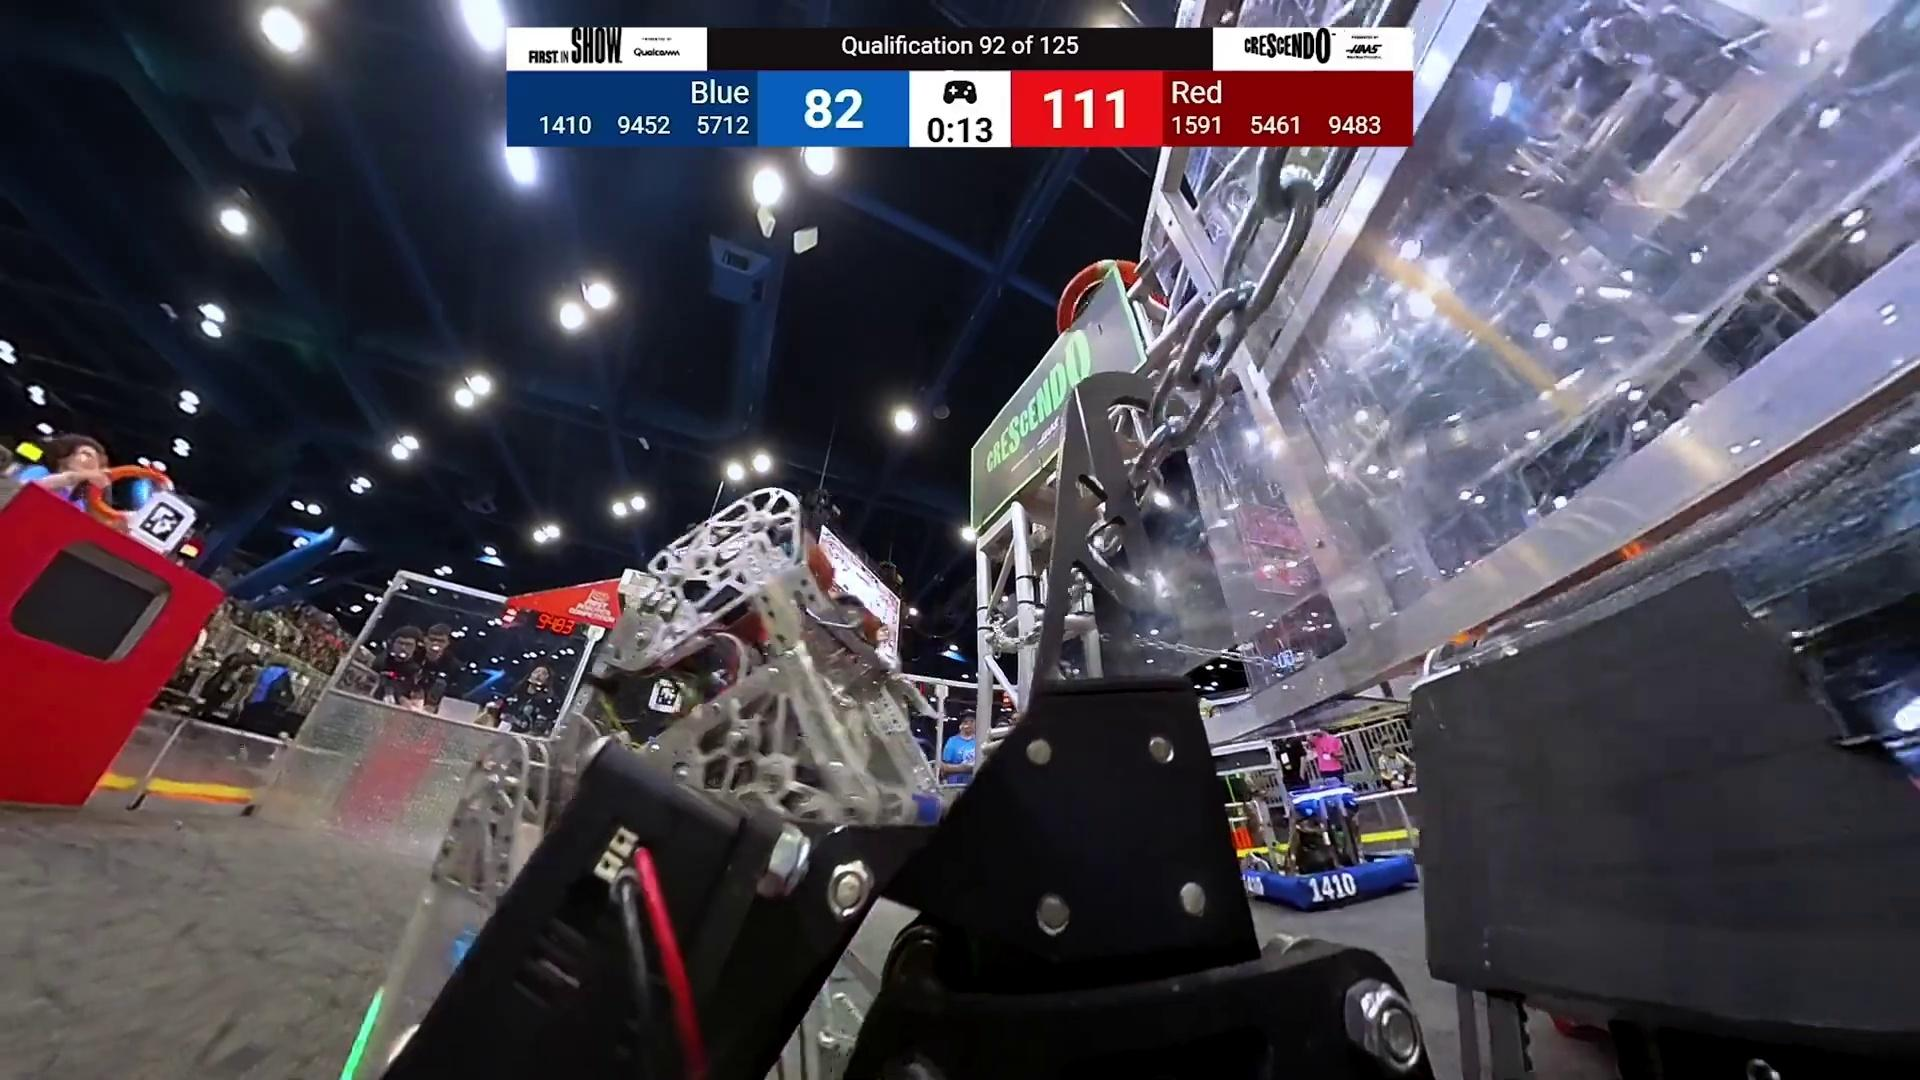robot: (1240, 785, 1418, 913)
